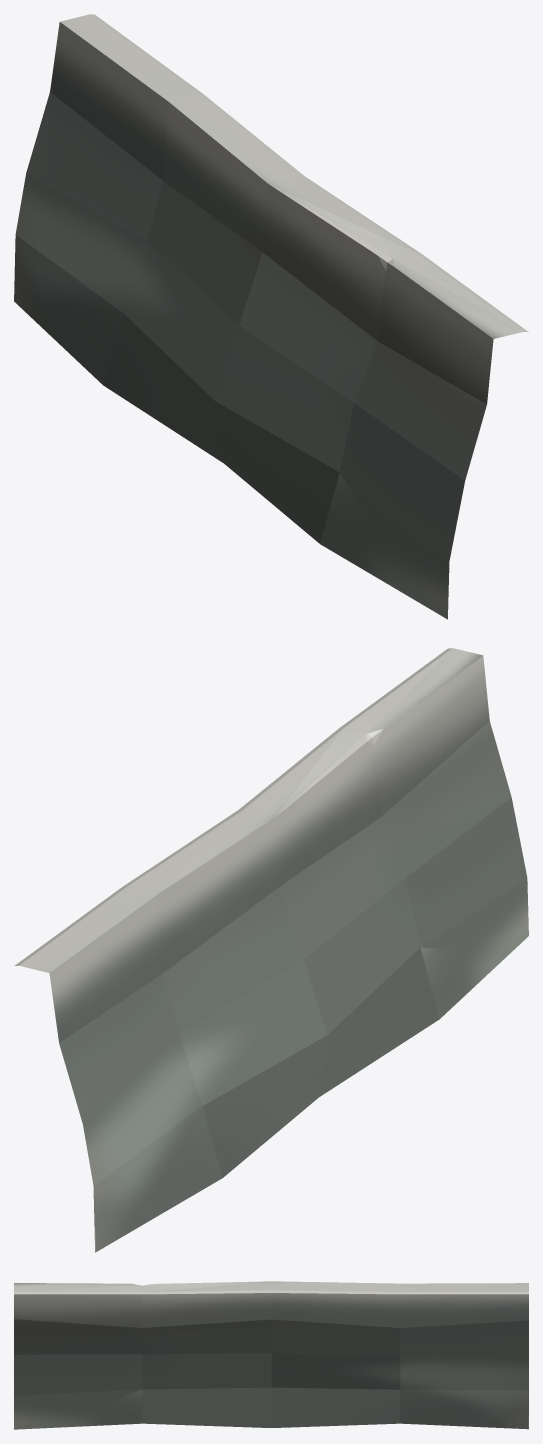
File: Wall.fbx
3 views of the same model, one above another, from view 1: azimuth 30°, elevation 25°; view 2: azimuth 150°, elevation 25°; view 3: azimuth 270°, elevation 25° (orthographic). The views are drawn at different scales.
Visible parts, largest first — view 1: Cube; view 2: Cube; view 3: Cube.
Part boxes in pixels (x1,y1,x2,y2): Cube: (14, 14, 528, 619); Cube: (14, 648, 528, 1252); Cube: (14, 1281, 528, 1429).
Bounding box in the file's own units: 6.6 × 17 × 49.44.
Materials: 1 (1 with a texture image).
